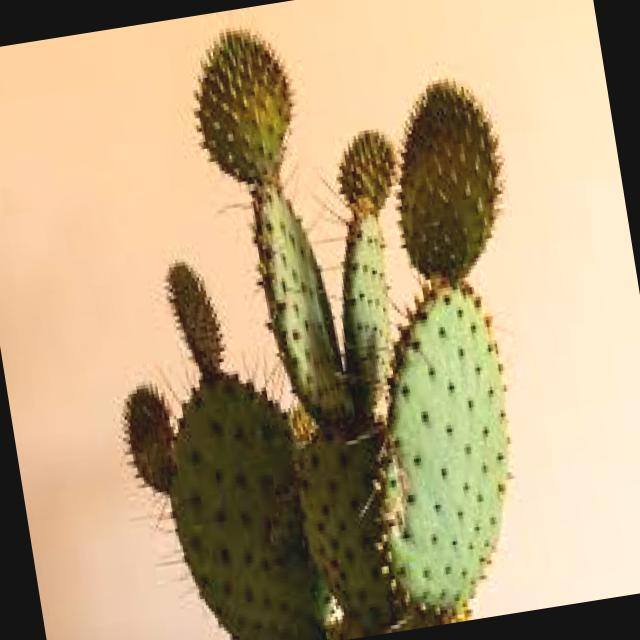cactus: (23, 0, 588, 640)
